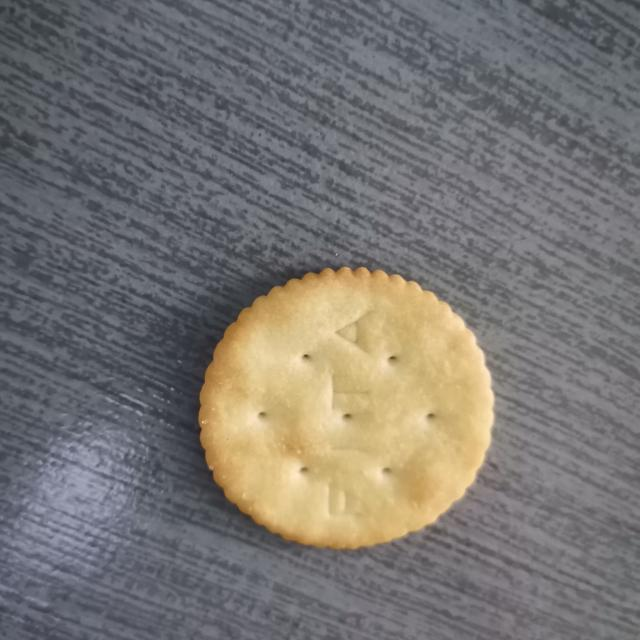Intact: (183, 259, 507, 568)
